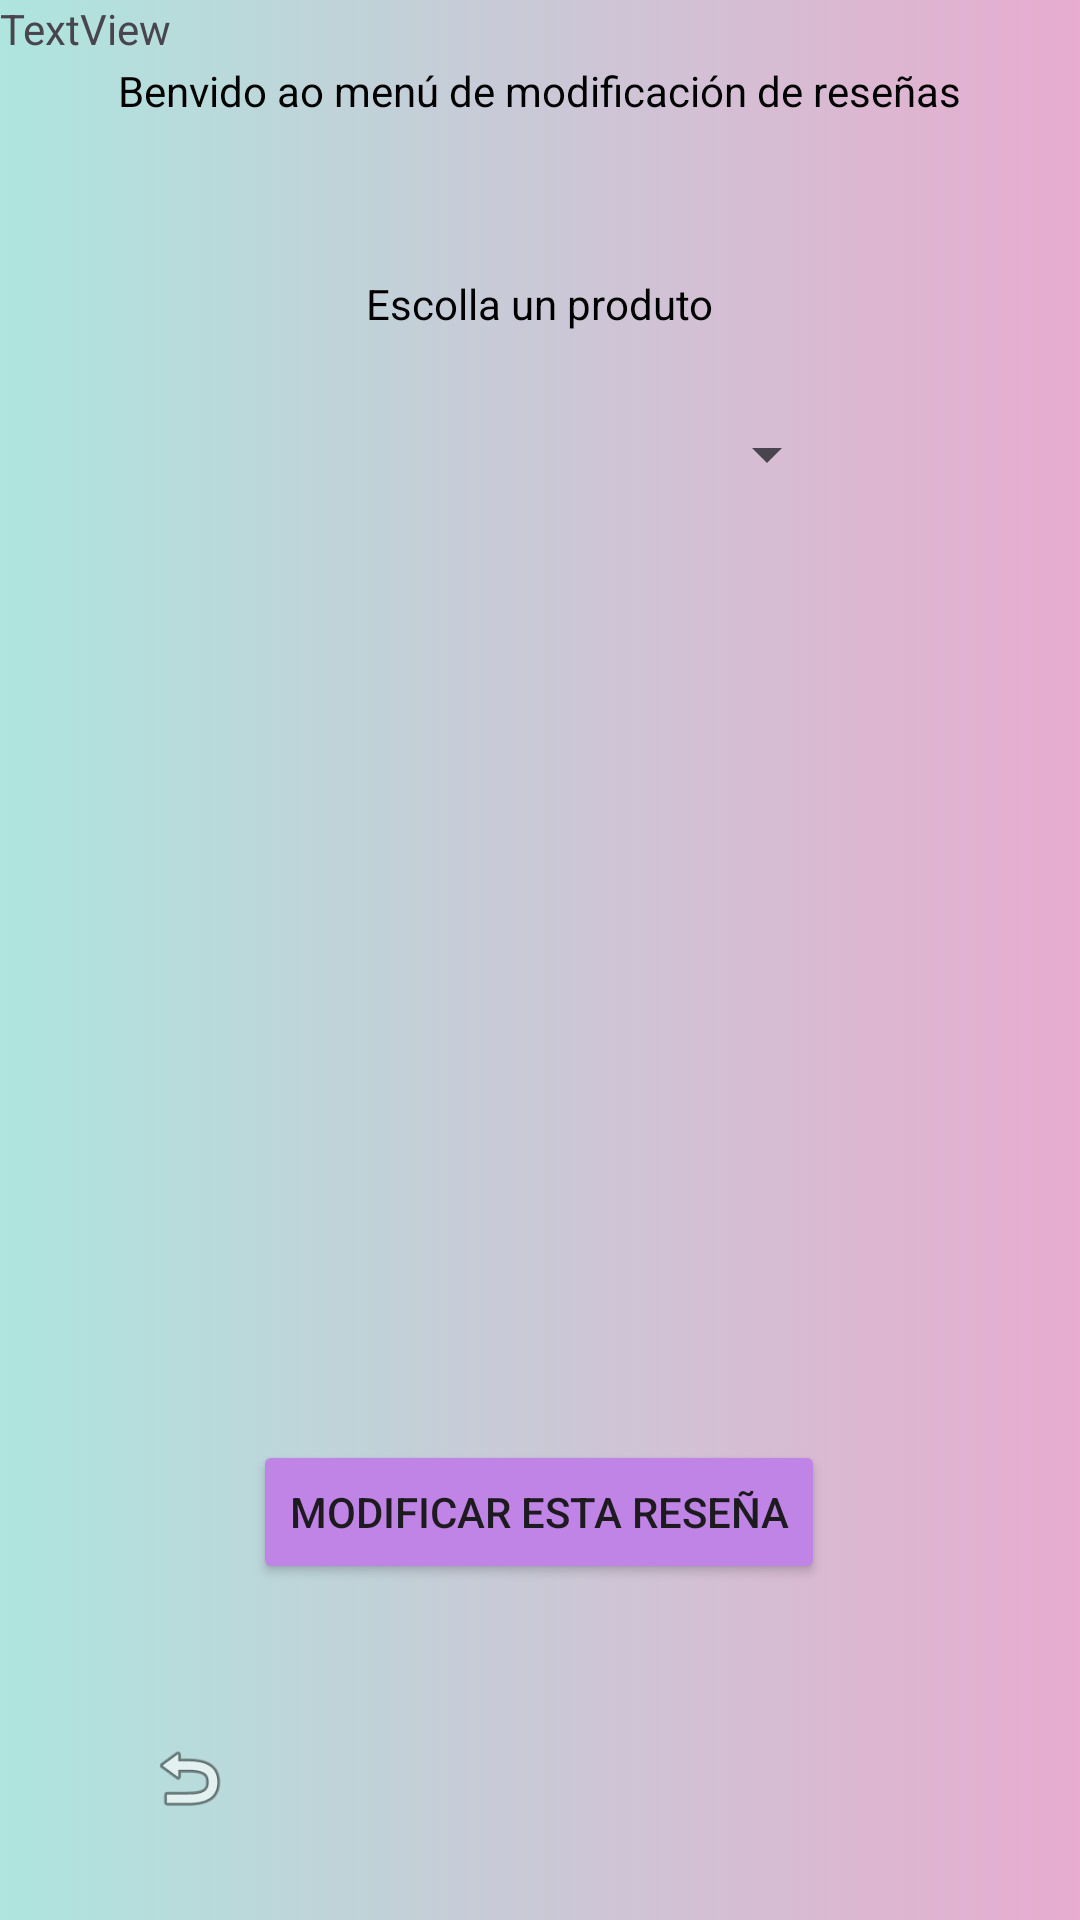

Icons on this 1080 x 1920 Android screen, each with the point to tap as (x,y):
revert: (190,1778)
